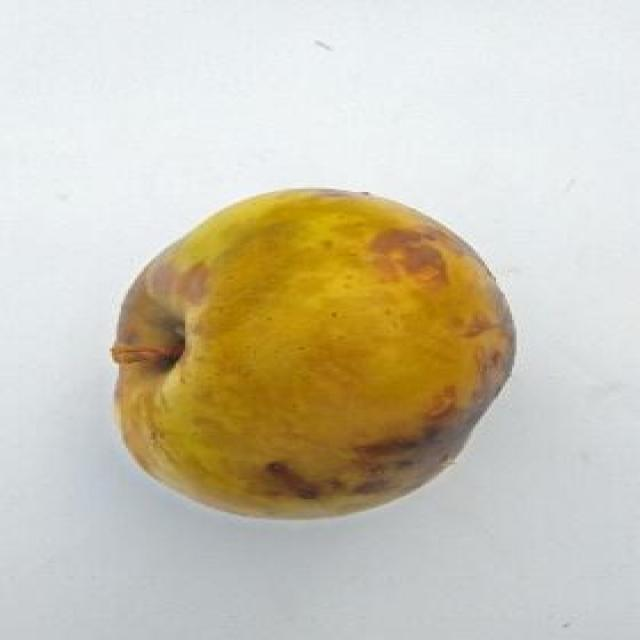Rotten: (109, 187, 518, 521)
